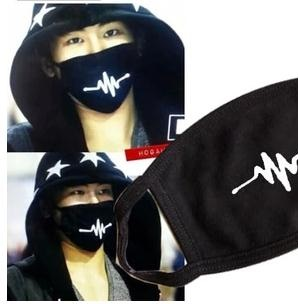face_mask: (52, 9, 137, 110), (56, 175, 116, 243)
